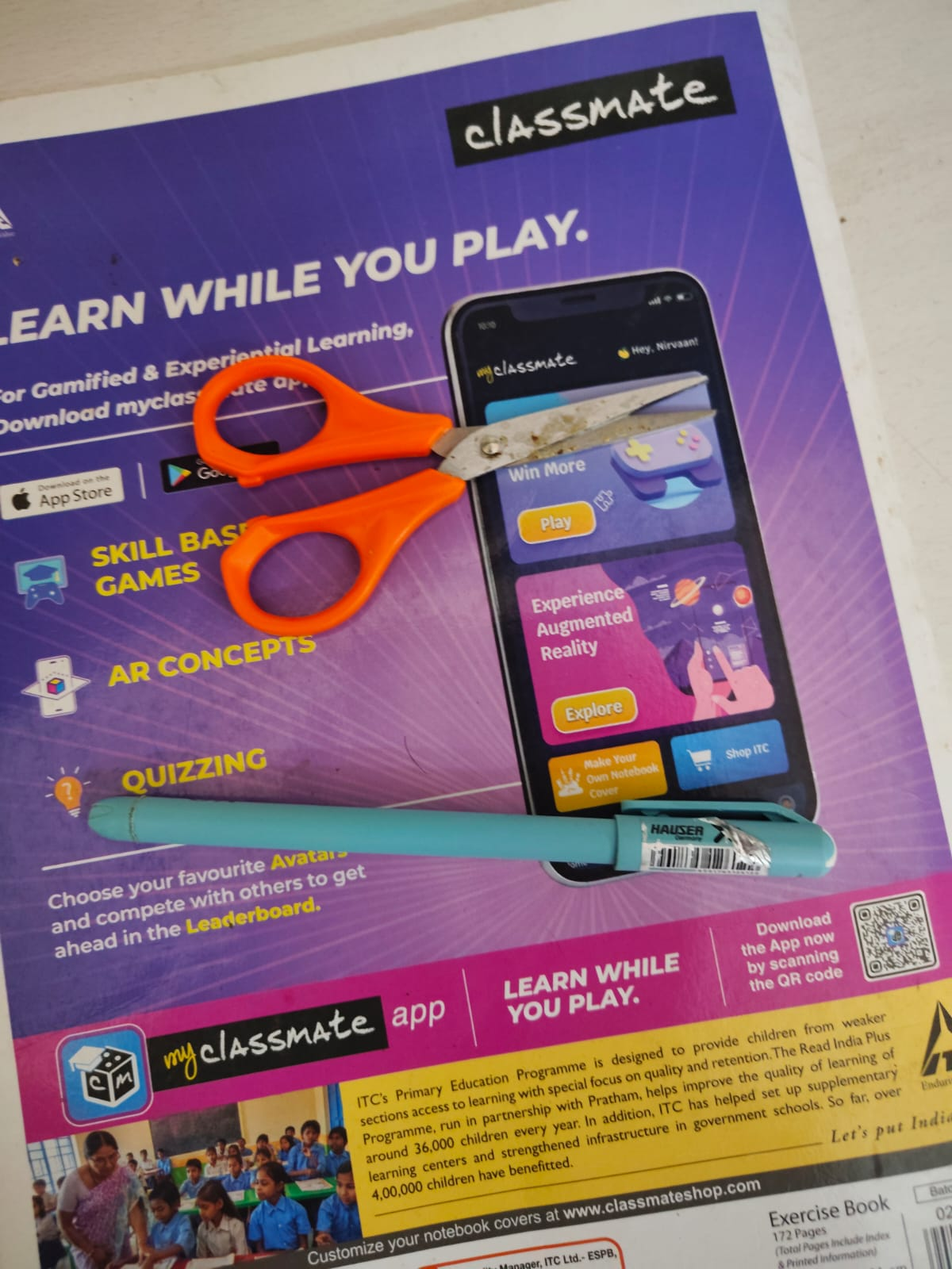pen: (38, 751, 834, 905)
